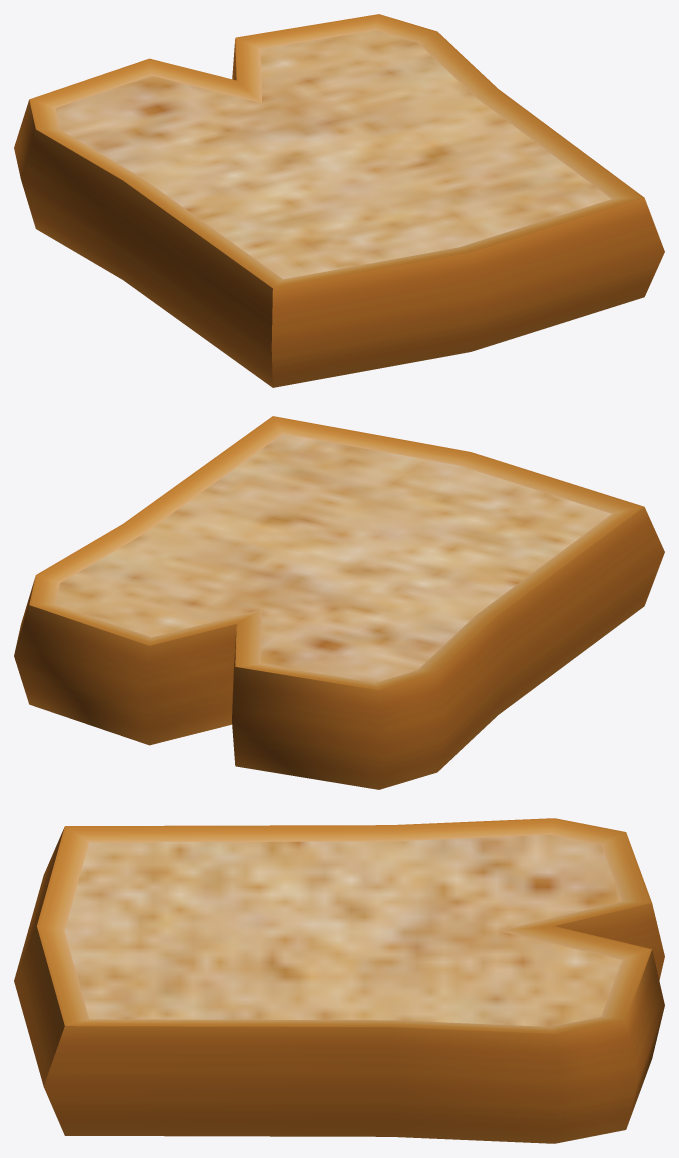
Rendered from Toast.fbx.
3 views of the same model, one above another, from view 1: azimuth 30°, elevation 25°; view 2: azimuth 150°, elevation 25°; view 3: azimuth 270°, elevation 25° (orthographic). The views are drawn at different scales.
Visible parts, largest first — view 1: Toast; view 2: Toast; view 3: Toast.
Boxes of the visible parts, bbox=[...] form: Toast: bbox=[14, 14, 664, 387]; Toast: bbox=[14, 416, 664, 789]; Toast: bbox=[14, 818, 664, 1143].
Bounding box in the file's own units: 154 × 34.56 × 186.
